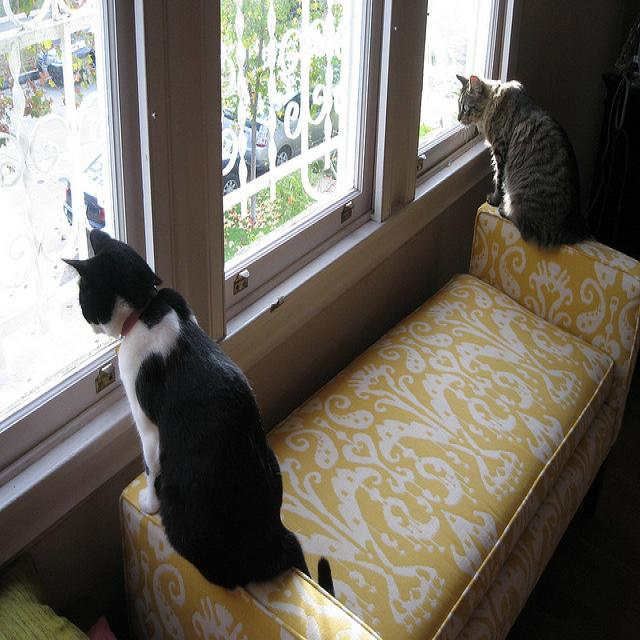Vehicle: (221, 86, 340, 197), (63, 148, 105, 260), (35, 29, 94, 88)
